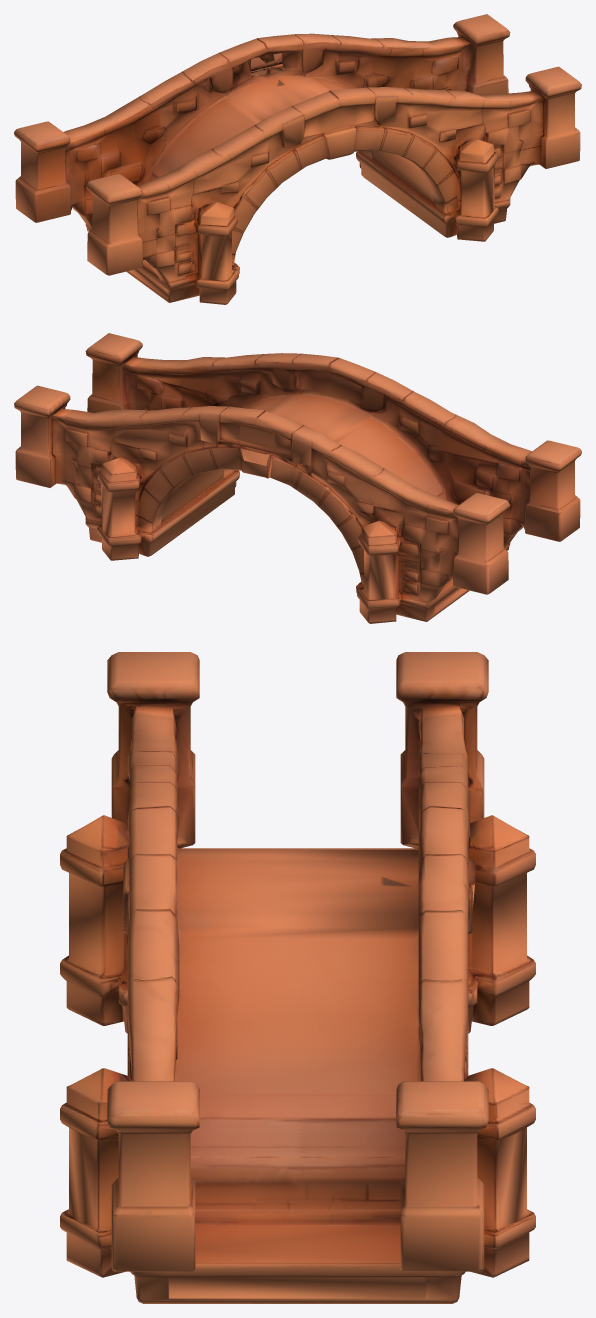
Rendered from Meshy_AI_Stone_Arch_Bridge_Ill_0131110046_texture.fbx.
3 views of the same model, one above another, from view 1: azimuth 30°, elevation 25°; view 2: azimuth 150°, elevation 25°; view 3: azimuth 270°, elevation 25° (orthographic). The views are drawn at different scales.
Parts seen in each view (by area): view 1: Mesh_0; view 2: Mesh_0; view 3: Mesh_0.
Boxes of the visible parts, <box> form: Mesh_0: <box>14,14,581,304</box>; Mesh_0: <box>14,333,581,623</box>; Mesh_0: <box>60,652,535,1303</box>.
Size of the model in its own units: 200 by 66.94 by 86.65.
Materials: 1 (1 with a texture image).
